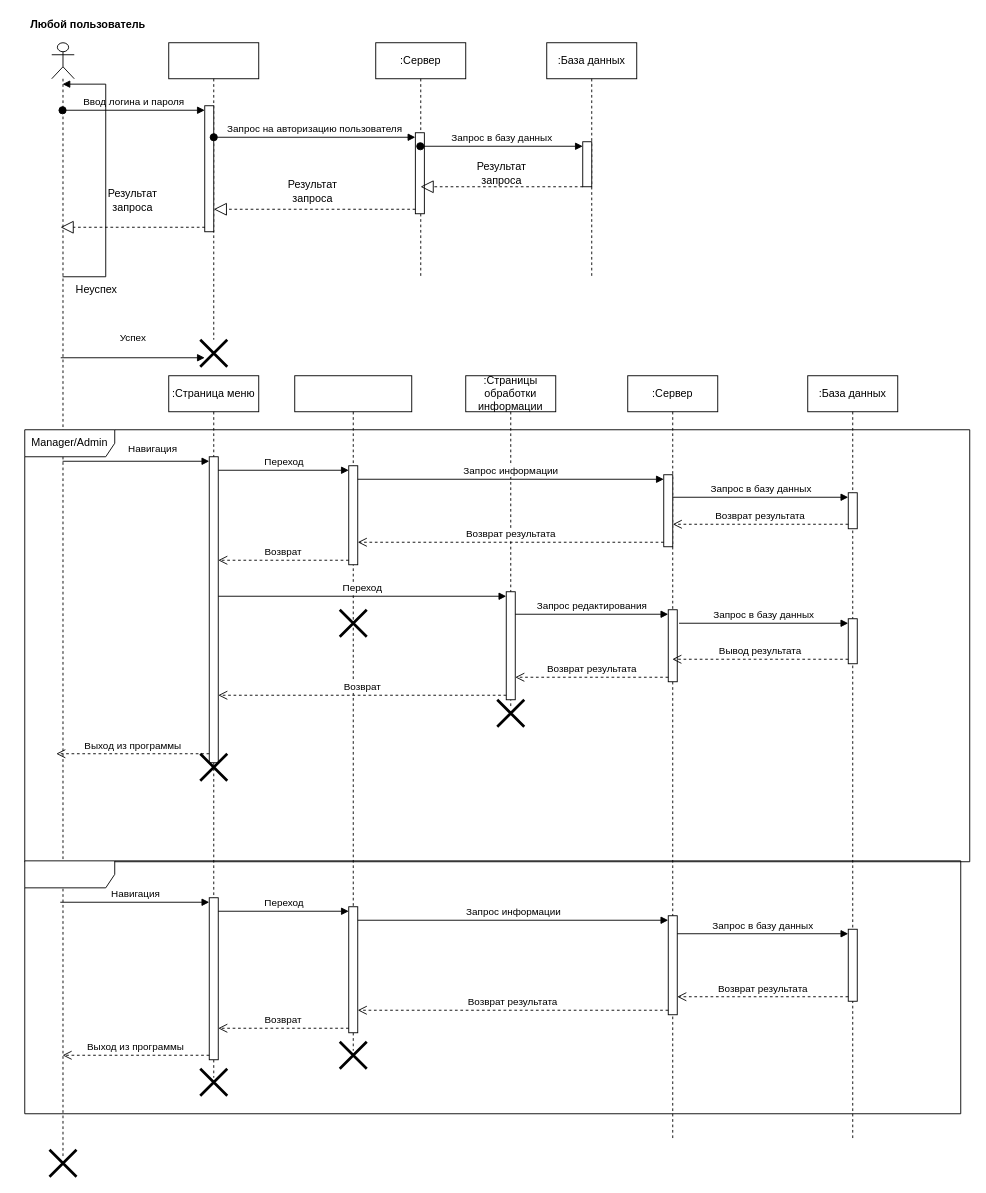
This 986x1193 diagram has some shape labels left out. The shapes that lost their labels are listed below. From the top down, each one's box as (x1, y1, x2, y2) in pixels, then its label:
(168, 42, 259, 340): :Страница регистрации
(294, 375, 412, 1051): :Страницы просмотра информации
(24, 860, 961, 1114): Client/Trainer
